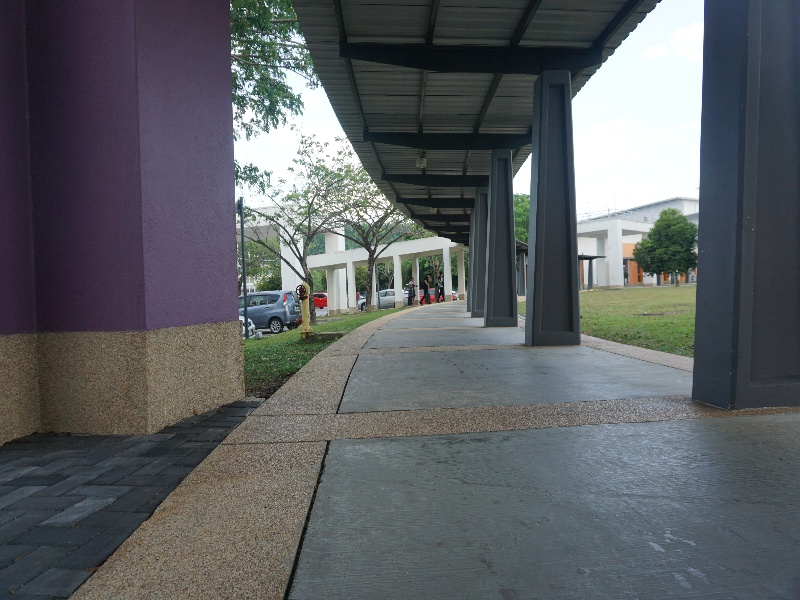Block D Pillar 7: (6, 6, 800, 542)
pillar: (8, 6, 250, 447), (692, 8, 797, 415), (523, 64, 588, 350), (477, 137, 522, 335)
